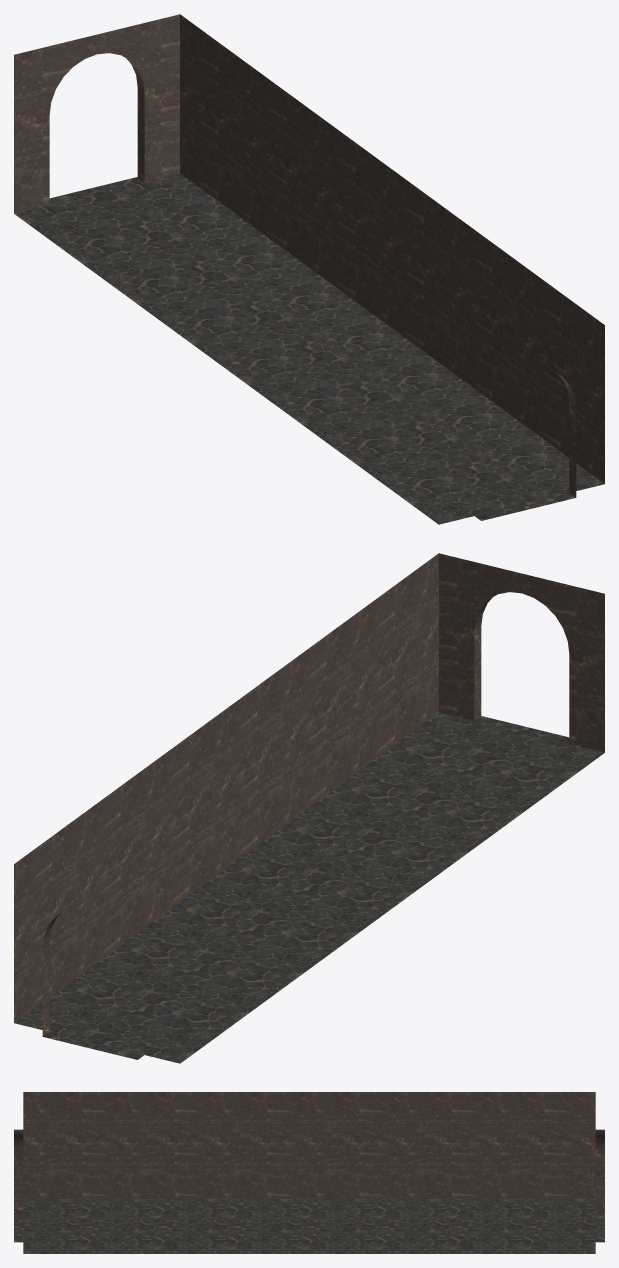
The model's file is rumors-walk.43b5a496.gltf.
The picture shows the model from 3 angles, top to bottom: view 1: azimuth 30°, elevation 25°; view 2: azimuth 150°, elevation 25°; view 3: azimuth 270°, elevation 25°; orthographic projection. The views are drawn at different scales.
Parts seen in each view (by area): view 1: rumors-walk-mesh; view 2: rumors-walk-mesh; view 3: rumors-walk-mesh.
Boxes of the visible parts, <box> form: rumors-walk-mesh: <box>14,14,604,524</box>; rumors-walk-mesh: <box>14,553,604,1063</box>; rumors-walk-mesh: <box>14,1092,604,1253</box>.
Size of the model in its own units: 3.5 by 3.2 by 16.
Materials: 2 (2 with a texture image).
